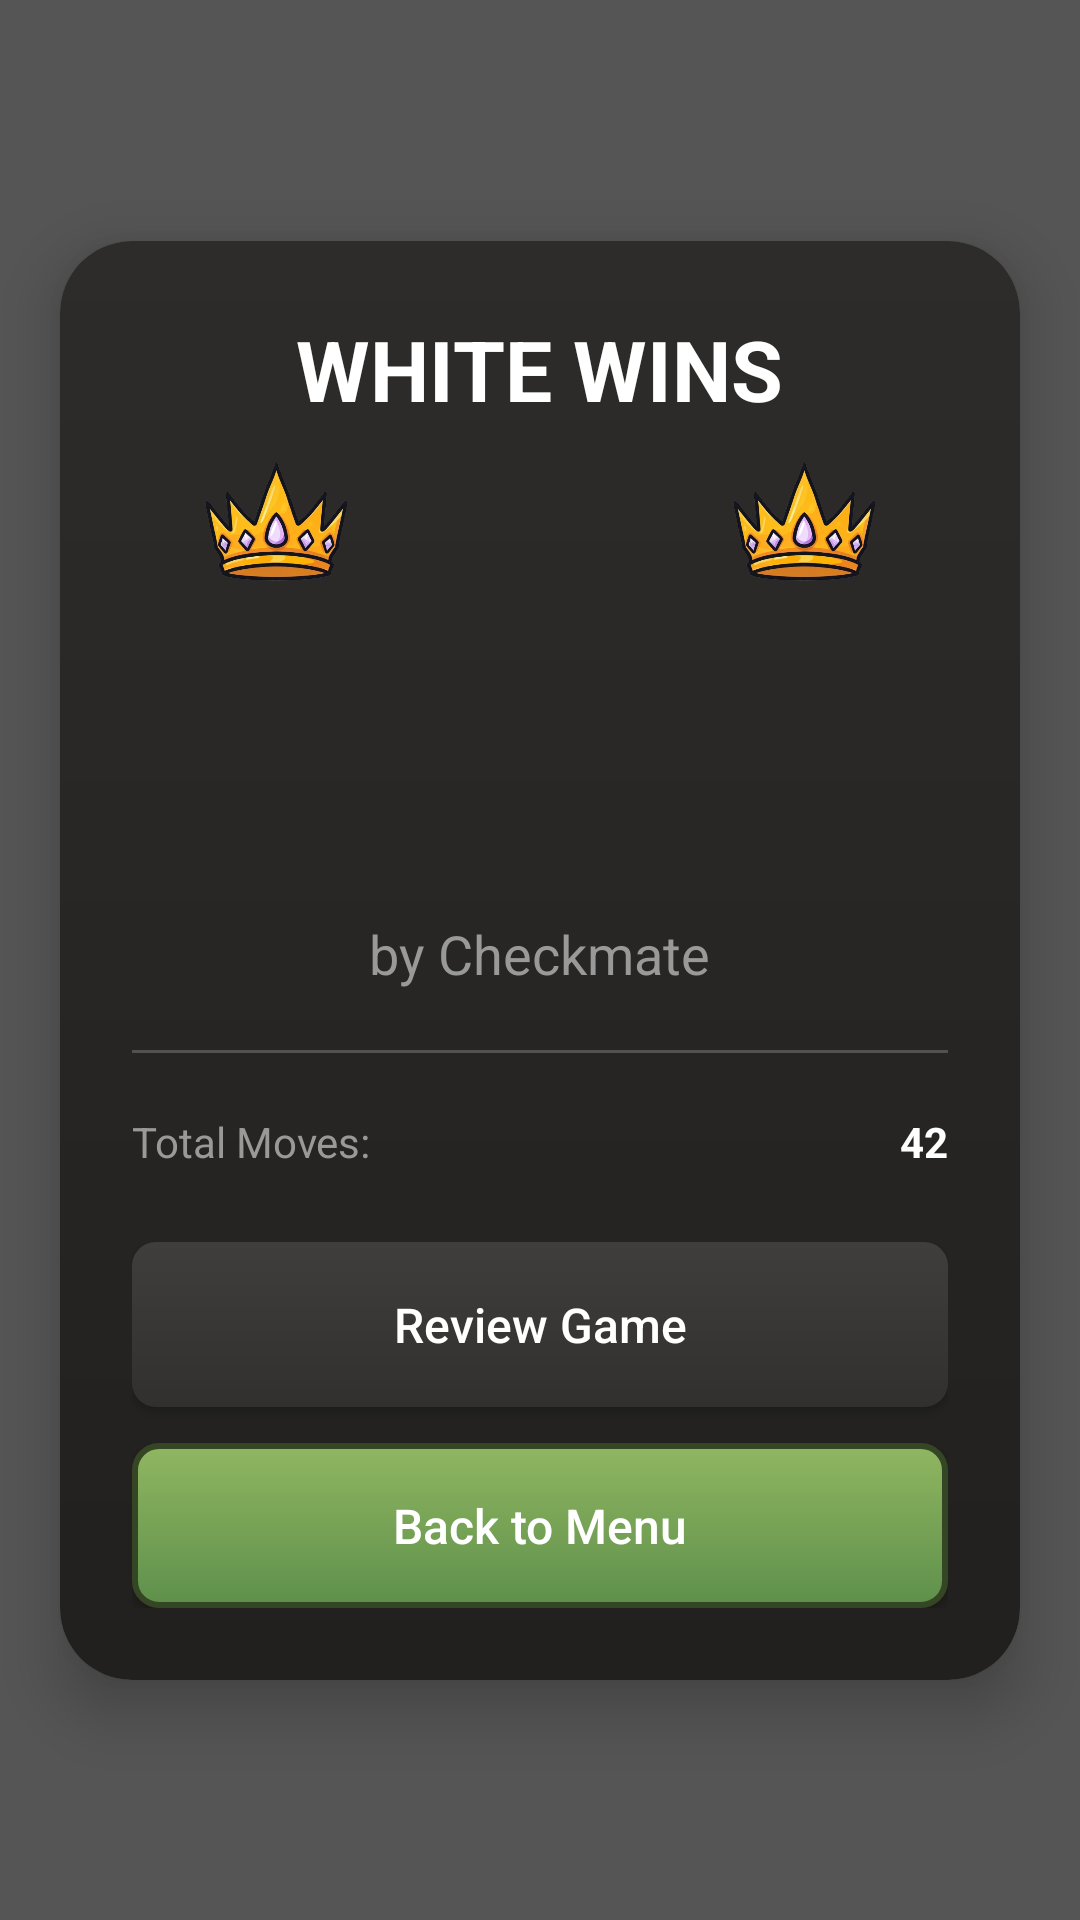

Screen size 1080*1920. Icon name, then its center in pixels as point (x, y):
crown: point (276, 522), point (804, 522)
